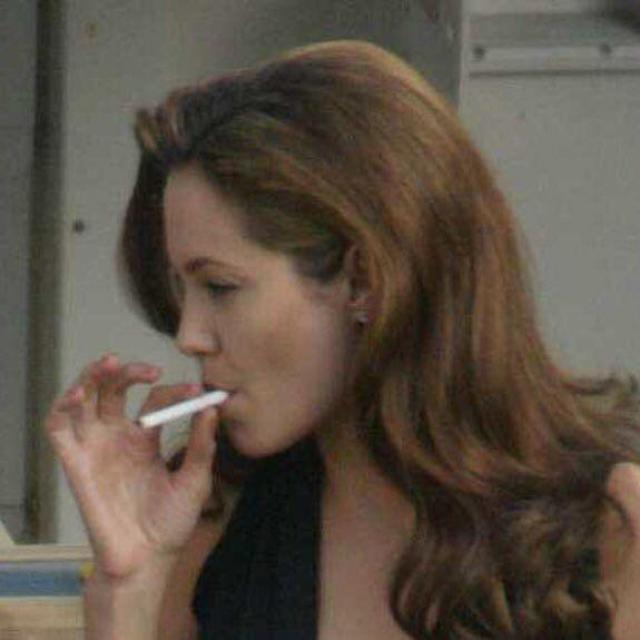cigarette: (118, 382, 247, 427)
